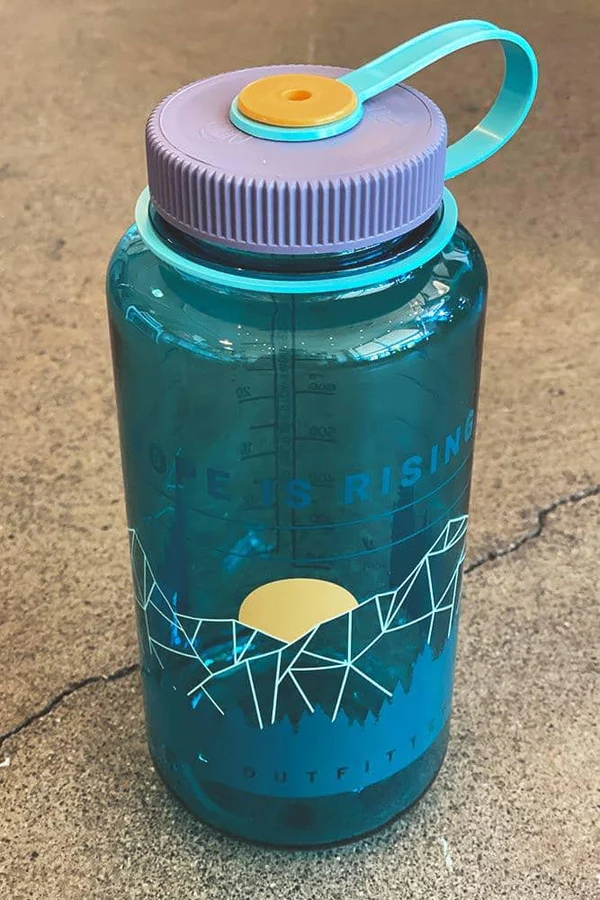bottle: (103, 19, 541, 853)
